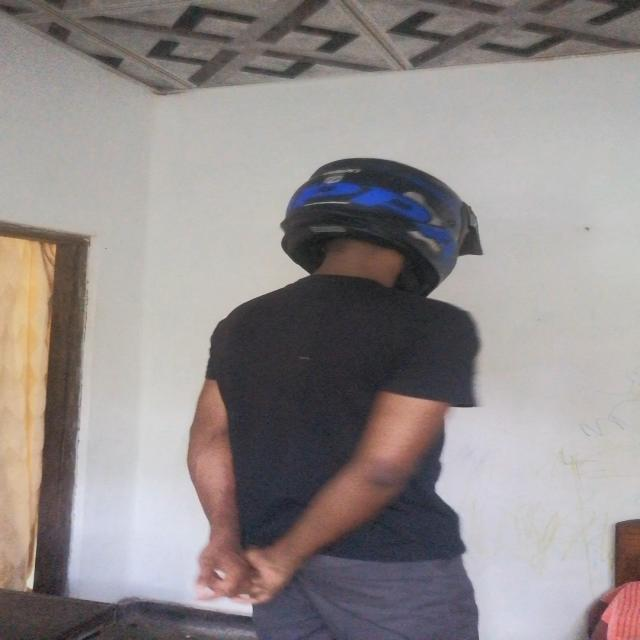Helmet_Wearer: (261, 150, 476, 329)
